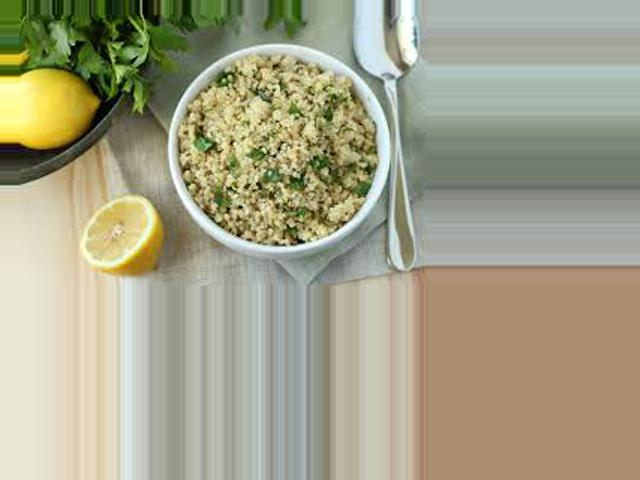lemon: (19, 71, 93, 139)
